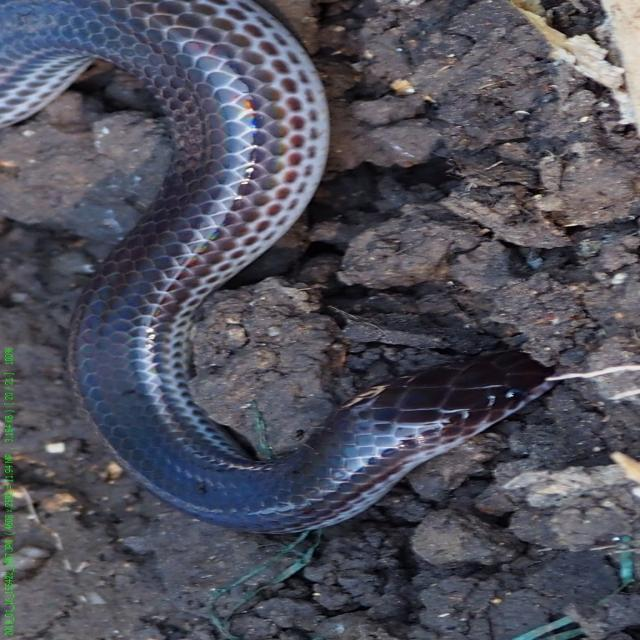Non-Venomous: (5, 2, 582, 556)
